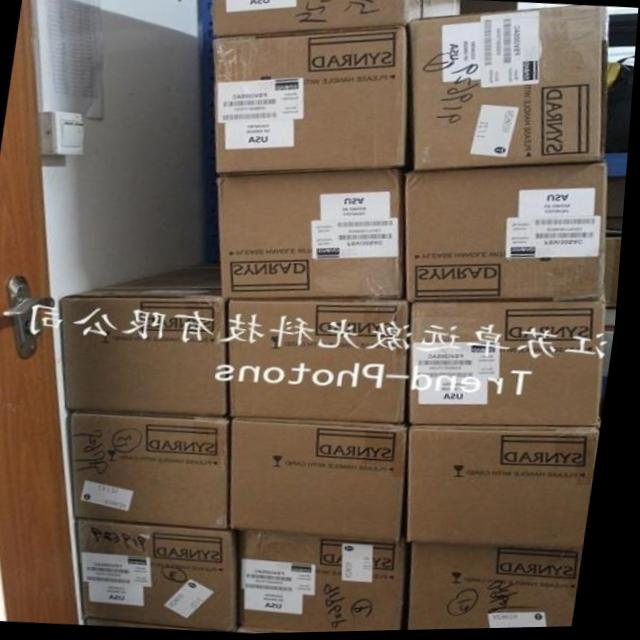box: (410, 7, 607, 171), (405, 165, 608, 304), (211, 27, 405, 172), (61, 261, 233, 418), (220, 169, 409, 301), (414, 305, 610, 428), (235, 419, 411, 546), (233, 302, 412, 426), (418, 429, 605, 545), (80, 520, 252, 633), (72, 413, 236, 530), (248, 533, 413, 634), (412, 546, 592, 632), (209, 0, 404, 38)
